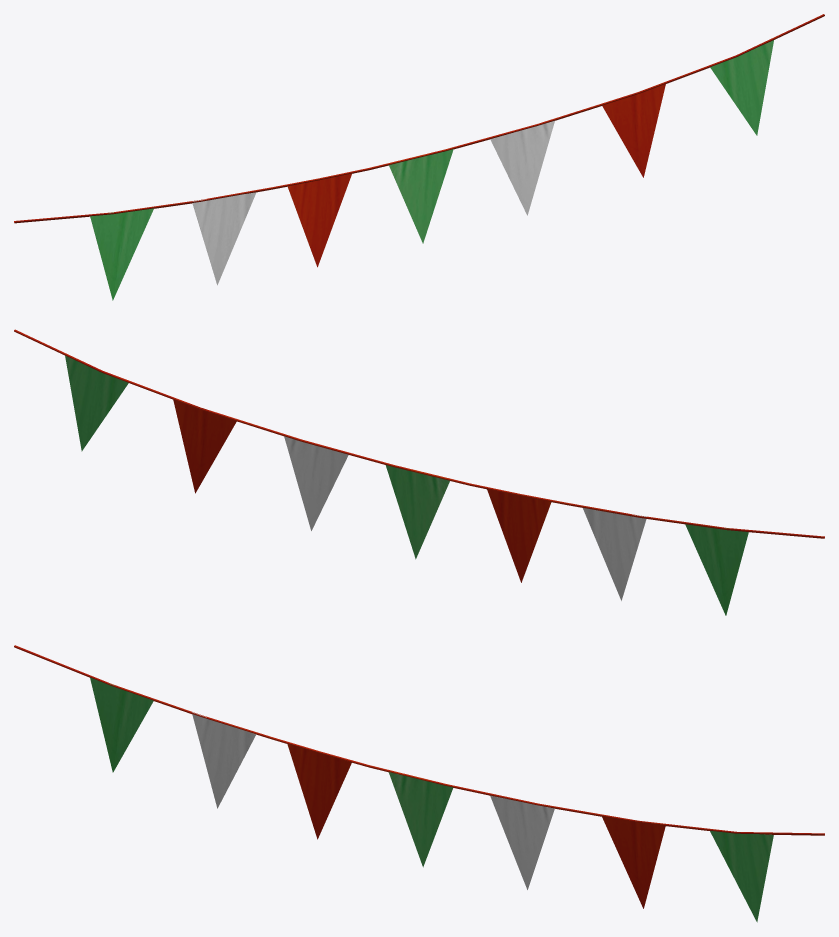
Rendered from Flags 2.FBX.
The picture shows the model from 3 angles, top to bottom: view 1: azimuth 30°, elevation 25°; view 2: azimuth 150°, elevation 25°; view 3: azimuth 330°, elevation 25°; orthographic projection.
Parts seen in each view (by area): view 1: Flags 2; view 2: Flags 2; view 3: Flags 2.
Boxes of the visible parts, bbox=[...] form: Flags 2: bbox=[14, 14, 824, 300]; Flags 2: bbox=[14, 329, 824, 615]; Flags 2: bbox=[14, 645, 824, 922].
Bounding box in the file's own units: 240 × 37.28 × 0.6099.
Materials: 1 (1 with a texture image).
